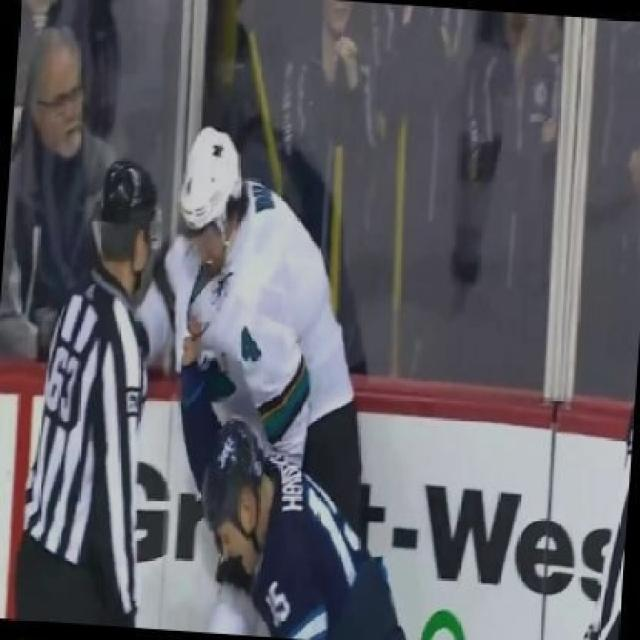fight: (3, 111, 403, 634)
non-fight: (0, 0, 169, 354)
